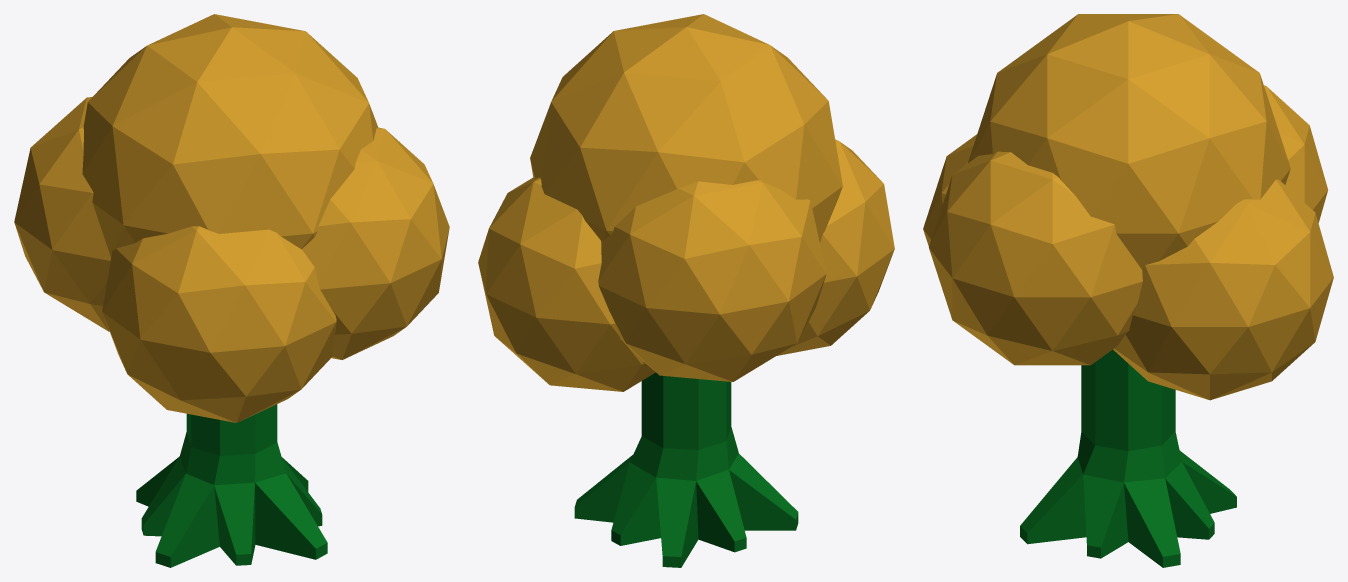
File: Tree.fbx
The picture shows the model from 3 angles, left to right: view 1: azimuth 30°, elevation 25°; view 2: azimuth 150°, elevation 25°; view 3: azimuth 270°, elevation 25°; orthographic projection.
Parts seen in each view (by area): view 1: 円柱; view 2: 円柱; view 3: 円柱.
Boxes of the visible parts, x1,y1,x2,y2 form: 円柱: (14,14,449,567); 円柱: (478,14,894,567); 円柱: (923,14,1333,567).
Size of the model in its own units: 790 by 1174 by 873.
